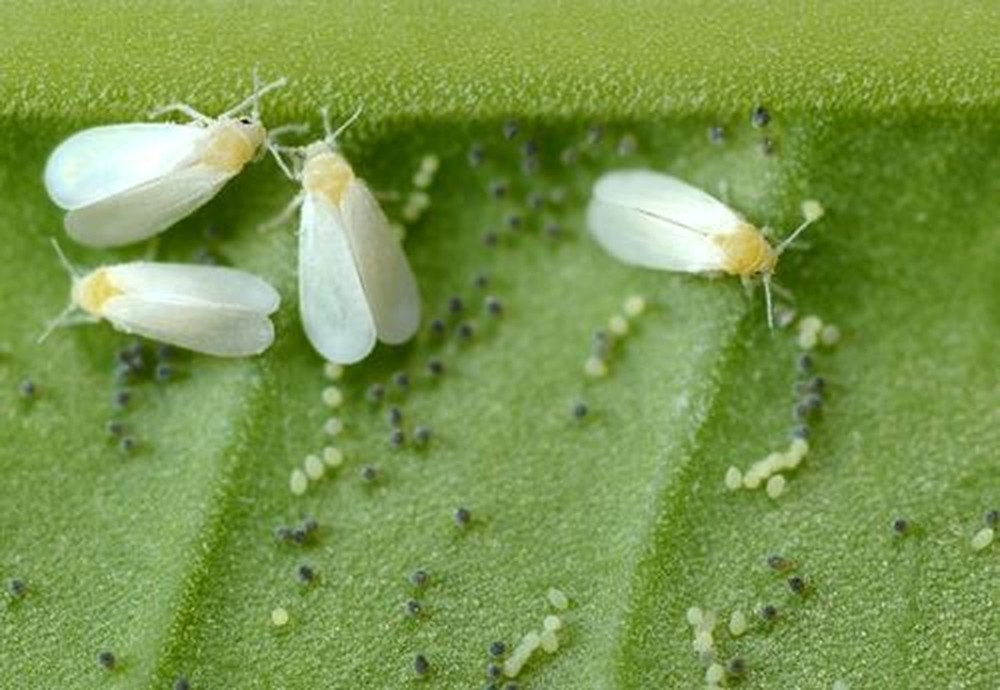Mosca Blanca: (556, 146, 846, 352), (268, 123, 460, 384), (32, 232, 282, 380), (35, 86, 279, 236)
